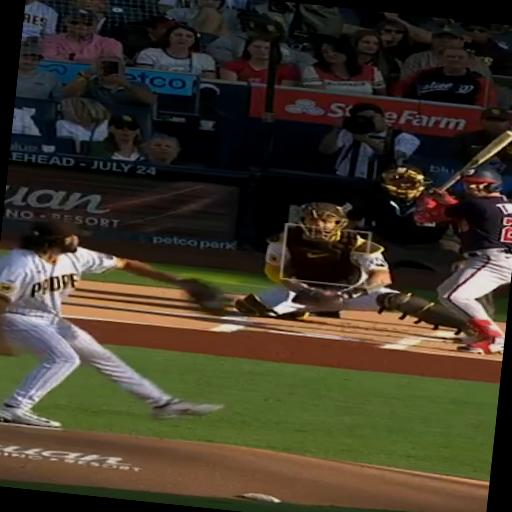bat: (437, 131, 511, 190)
